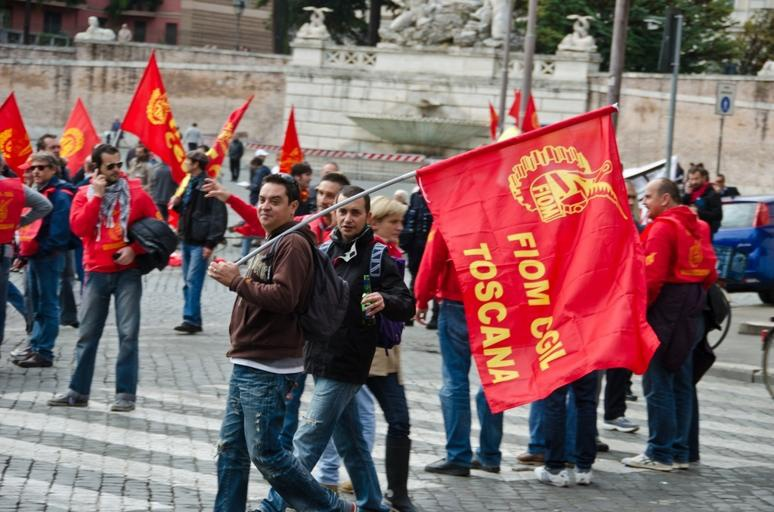non-vehicle: (703, 272, 730, 348), (759, 316, 774, 394)
